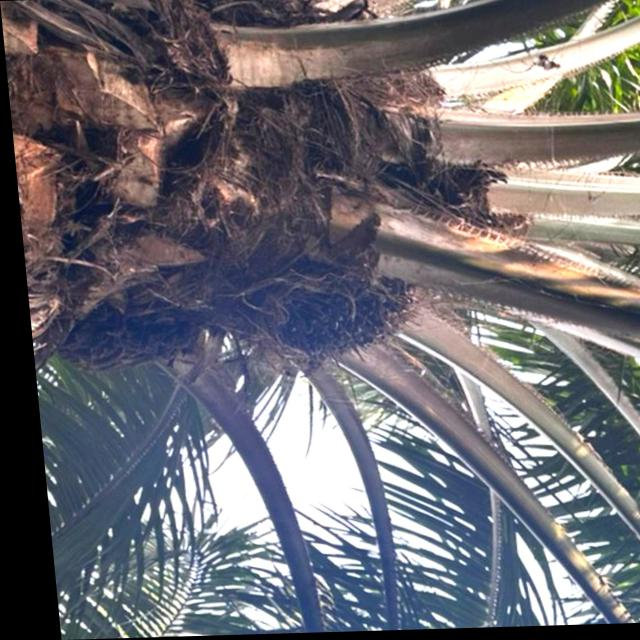unripe: (257, 258, 417, 371)
